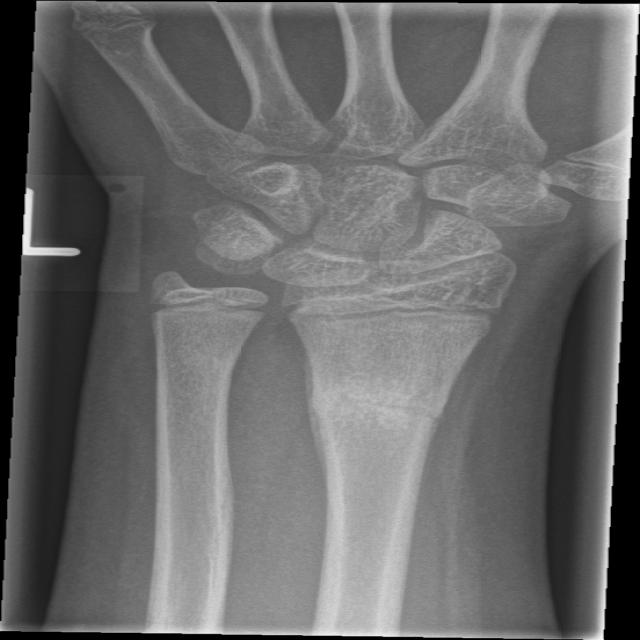radius fracture: (284, 344, 486, 515)
